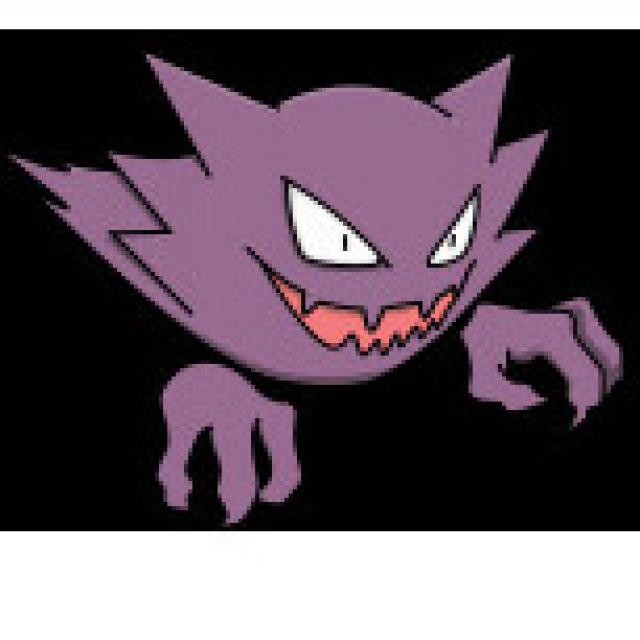Haunter: (146, 44, 640, 468)
